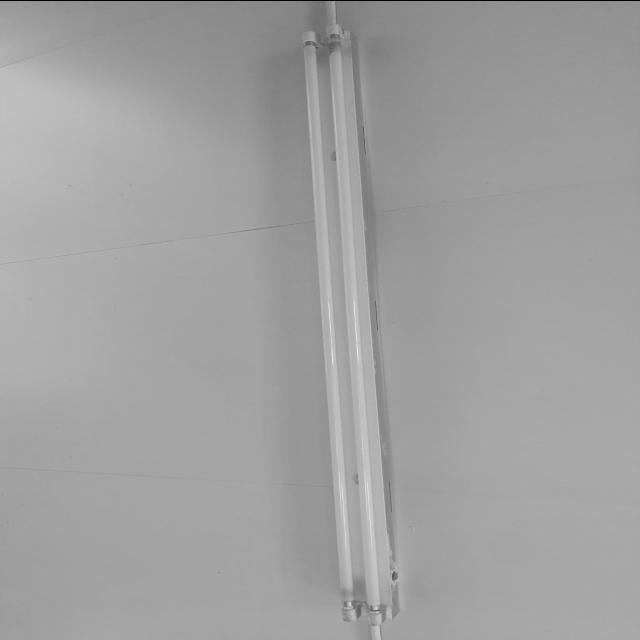light: (302, 24, 401, 625)
